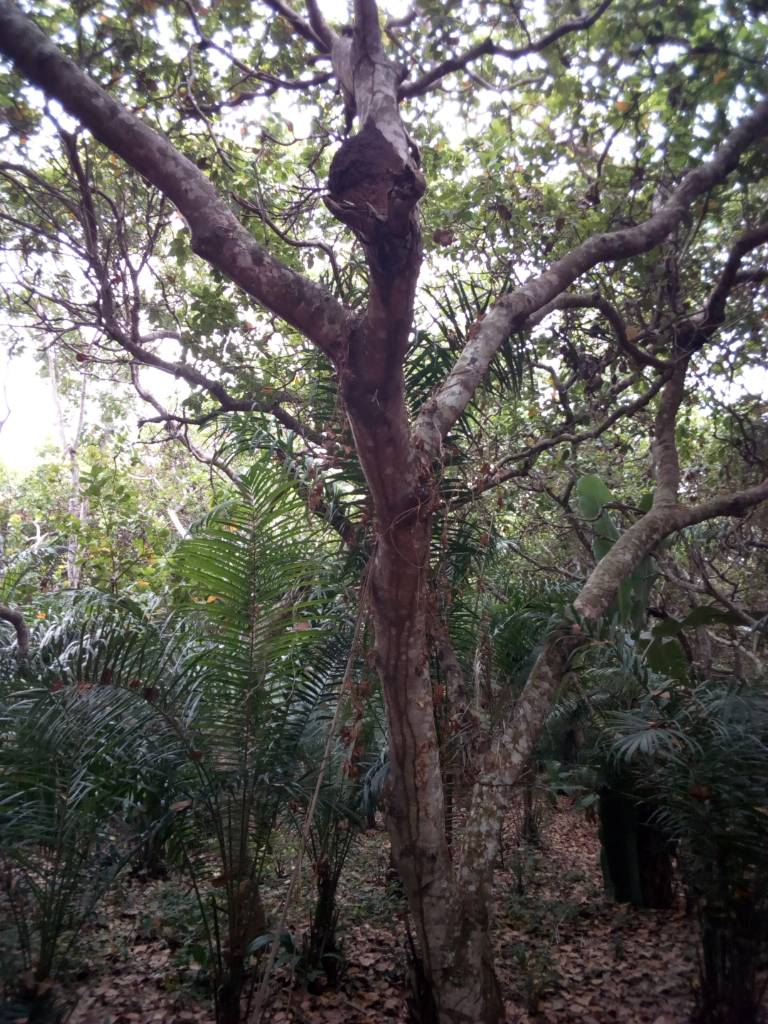Termites: (383, 567, 436, 903), (336, 116, 425, 271)
